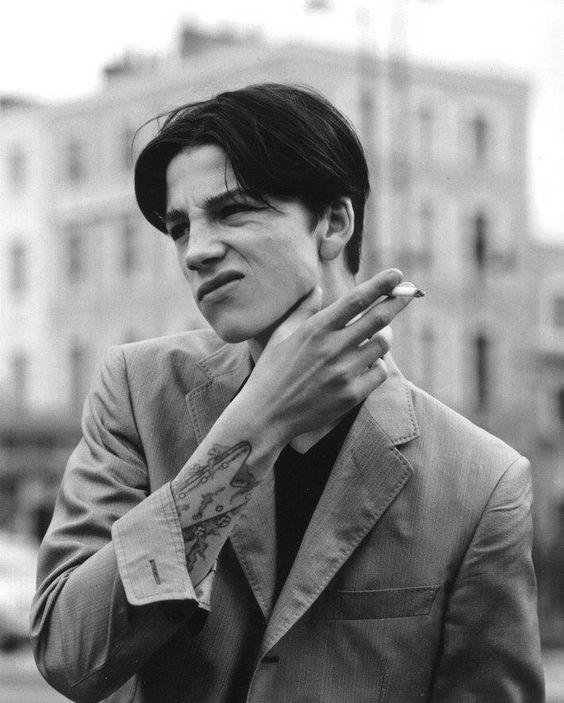cigarette: (384, 287, 426, 298)
